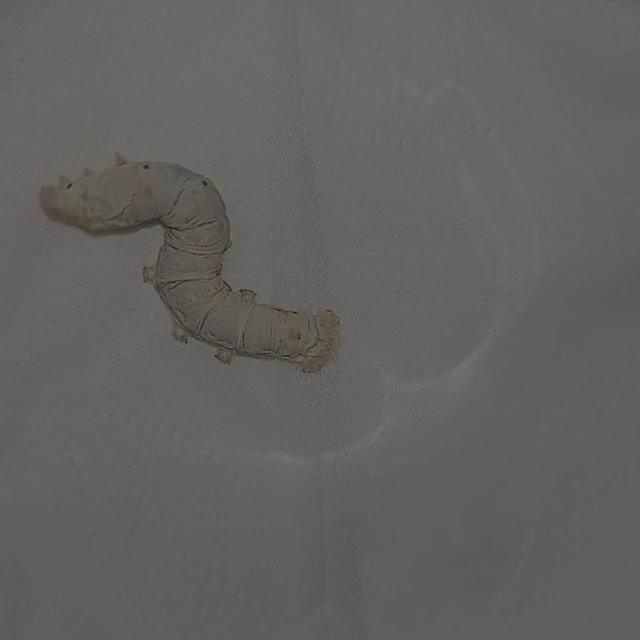Healthy: (28, 140, 354, 386)
